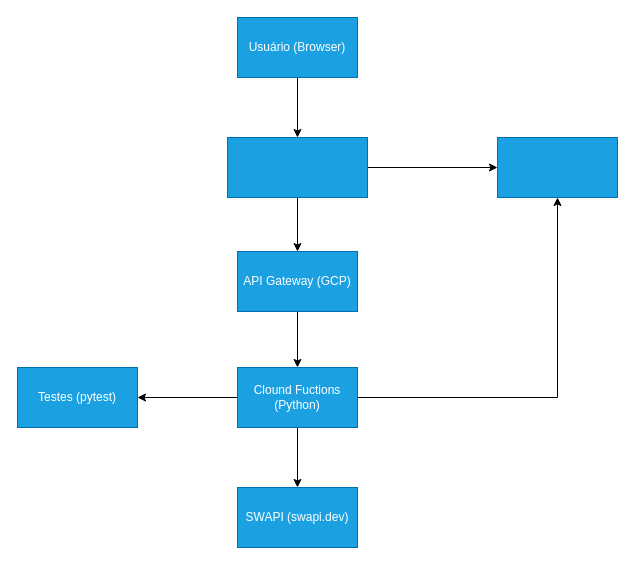
The diagram is 635 pixels wide and 565 high, and some of its shapes have lost their labels. The box of each missing label's shape, as (x1, y1, x2, y2) in pixels:
Auth (JWT): (496, 136, 618, 198)
Frontend (Landing + App): (226, 136, 368, 198)
